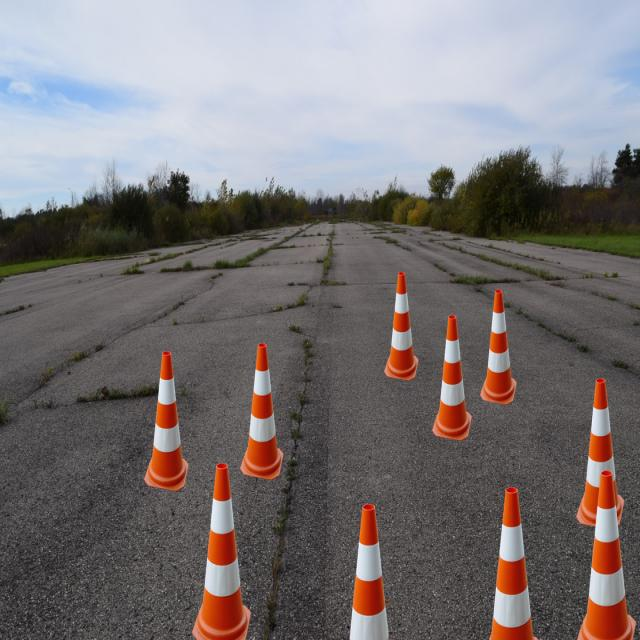large_orange_cone: (192, 463, 251, 640), (576, 470, 636, 640), (480, 487, 542, 640), (336, 504, 401, 640), (576, 378, 625, 530), (144, 351, 189, 491), (240, 343, 284, 480), (432, 315, 472, 441), (480, 290, 517, 404), (384, 272, 419, 381)
